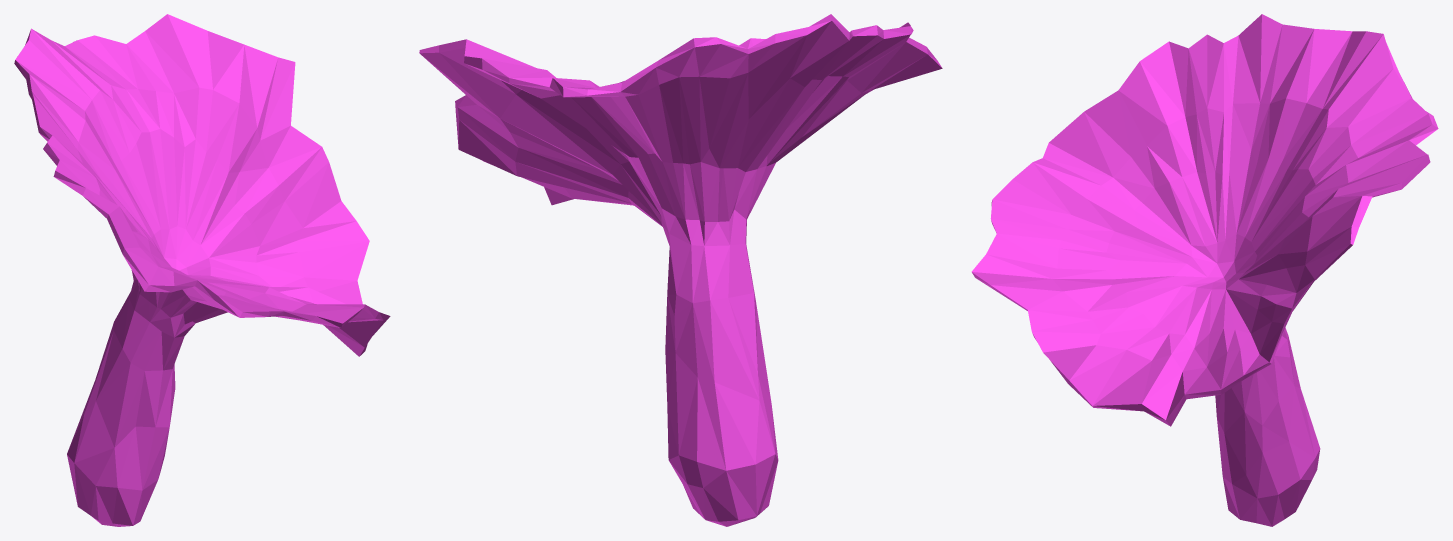
The model's file is SM_Mushroom_Trumpet_Giant_C_Fantasy.fbx.
3 renders of one model, left to right at view 1: azimuth 30°, elevation 25°; view 2: azimuth 150°, elevation 25°; view 3: azimuth 270°, elevation 25°, orthographic. The views are drawn at different scales.
Parts seen in each view (by area): view 1: SM_Mushroom_Trumpet_Giant_C_Fantasy; view 2: SM_Mushroom_Trumpet_Giant_C_Fantasy; view 3: SM_Mushroom_Trumpet_Giant_C_Fantasy.
Part boxes in pixels (x1,y1,x2,y2): SM_Mushroom_Trumpet_Giant_C_Fantasy: [14, 14, 390, 526]; SM_Mushroom_Trumpet_Giant_C_Fantasy: [419, 14, 942, 526]; SM_Mushroom_Trumpet_Giant_C_Fantasy: [971, 14, 1438, 526].
Size of the model in its own units: 4.56 by 5.85 by 5.24.
